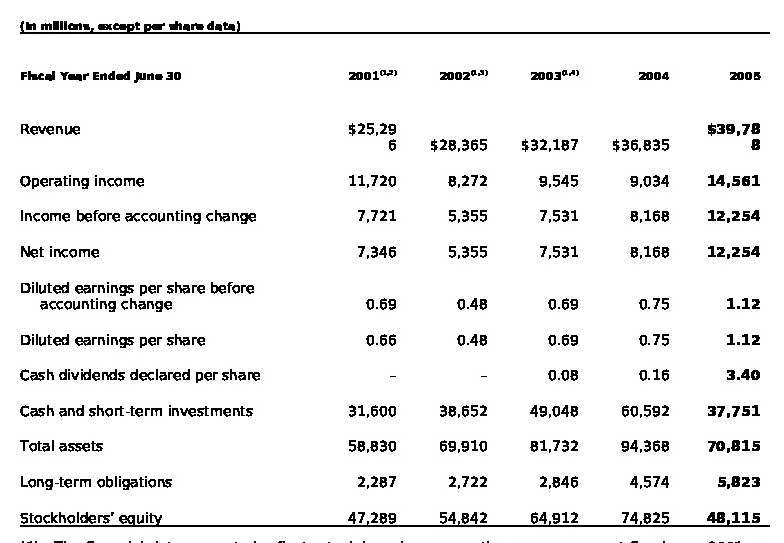table: (0, 0, 784, 543)
